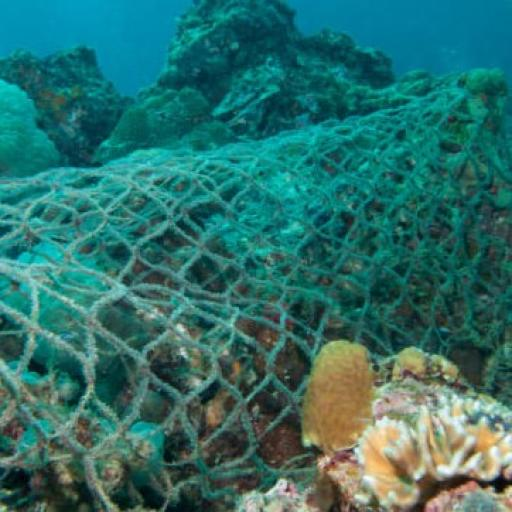net: (0, 85, 512, 475)
